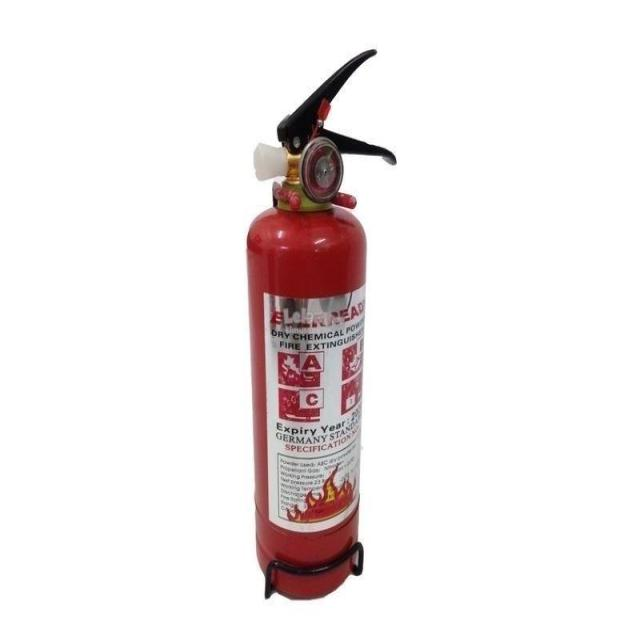fire_extinguisher: (242, 42, 401, 604)
